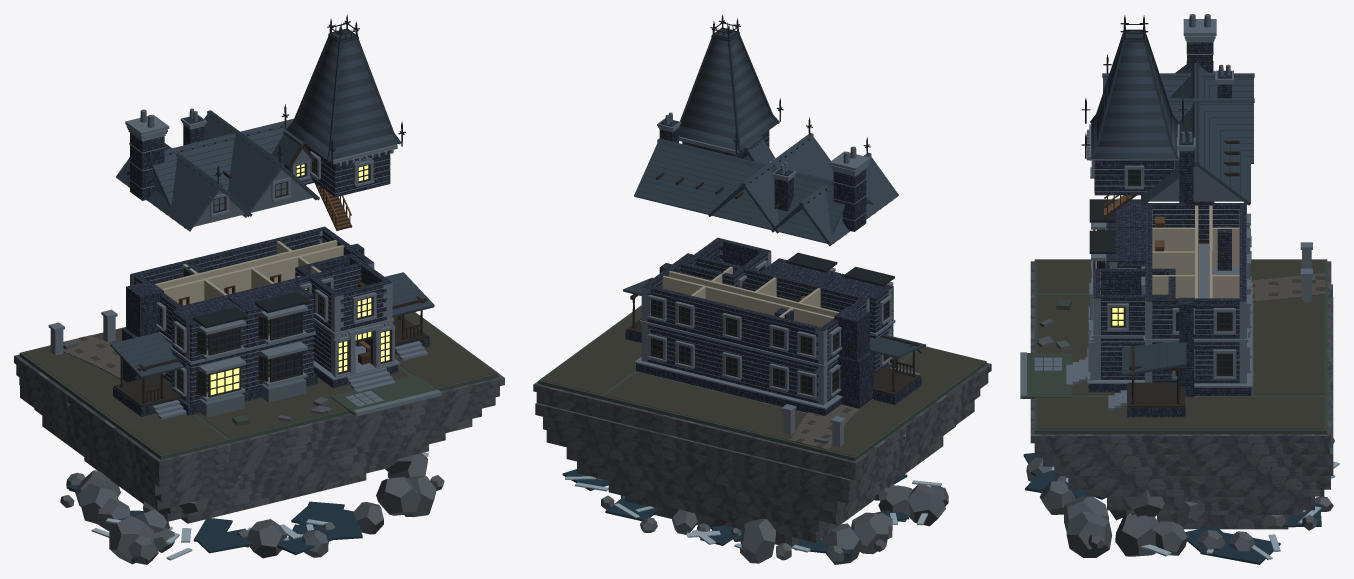
File: casa-da-costa-pisos.glb
3 views of the same model, side by side, from view 1: azimuth 30°, elevation 25°; view 2: azimuth 150°, elevation 25°; view 3: azimuth 270°, elevation 25° (orthographic). The views are drawn at different scales.
Visible parts, largest first — view 1: terra-batida (×3), rochedo (×8), estrato-1 (×3), borda-rochosa (×3), estrato-3 (×2), fiada-do-corucheu (×6), estrato-5, estrato-2 (×2), parede-superior (×2), estrato-4, parede-fundo, parede-da-torre (×3) (+17 smaller); view 2: terra-batida (×3), fiada-de-telhas (×10), parede-fundo (×2), rochedo (×5), estrato-3 (×3), estrato-5, estrato-2 (×3), estrato-1 (×3), estrato-4, borda-rochosa (×3), estrato-6, fiada-do-corucheu (×5) (+17 smaller); view 3: terra-batida (×4), rochedo (×9), fiada-do-corucheu (×10), parede-da-torre (×3), divisoria-de-quarto (×5), parede-leste (×2), estrato-2, estrato-4, estrato-1, borda-rochosa, estrato-3, estrato-6 (+25 smaller).
Part boxes in pixels (x1=…): terra-batida (×3): x1=23, y1=312, x2=495, y2=454; rochedo (×8): x1=78, y1=476, x2=436, y2=564; estrato-1 (×3): x1=16, y1=365, x2=499, y2=479; borda-rochosa (×3): x1=14, y1=354, x2=504, y2=469; estrato-3 (×2): x1=20, y1=385, x2=421, y2=496; fiada-do-corucheu (×6): x1=288, y1=100, x2=399, y2=160; estrato-5: x1=42, y1=416, x2=445, y2=510; estrato-2 (×2): x1=19, y1=377, x2=427, y2=487; parede-superior (×2): x1=172, y1=281, x2=313, y2=361; estrato-4: x1=34, y1=408, x2=472, y2=502; parede-fundo: x1=136, y1=228, x2=322, y2=283; parede-da-torre (×3): x1=295, y1=266, x2=386, y2=372; terra-batida (×3): x1=542, y1=307, x2=982, y2=456; fiada-de-telhas (×10): x1=634, y1=143, x2=844, y2=242; parede-fundo (×2): x1=647, y1=285, x2=820, y2=403; rochedo (×5): x1=740, y1=484, x2=945, y2=564; estrato-3 (×3): x1=543, y1=400, x2=974, y2=503; estrato-5: x1=566, y1=436, x2=943, y2=524; estrato-2 (×3): x1=535, y1=389, x2=980, y2=491; estrato-1 (×3): x1=536, y1=373, x2=988, y2=480; estrato-4: x1=546, y1=425, x2=955, y2=513; borda-rochosa (×3): x1=533, y1=363, x2=991, y2=469; estrato-6: x1=577, y1=461, x2=829, y2=531; fiada-do-corucheu (×5): x1=679, y1=100, x2=777, y2=150; terra-batida (×4): x1=1037, y1=260, x2=1324, y2=429; rochedo (×9): x1=1039, y1=481, x2=1254, y2=557; fiada-do-corucheu (×10): x1=1091, y1=72, x2=1177, y2=158; parede-da-torre (×3): x1=1093, y1=268, x2=1175, y2=379; divisoria-de-quarto (×5): x1=1152, y1=227, x2=1239, y2=298; parede-leste (×2): x1=1145, y1=298, x2=1246, y2=383; estrato-2: x1=1043, y1=419, x2=1332, y2=466; estrato-4: x1=1068, y1=476, x2=1330, y2=489; estrato-1: x1=1034, y1=443, x2=1329, y2=454; borda-rochosa: x1=1030, y1=400, x2=1331, y2=443; estrato-3: x1=1054, y1=432, x2=1333, y2=475; estrato-6: x1=1107, y1=496, x2=1314, y2=510.
Size of the model in its own units: 30.48 by 41.33 by 23.36.
Materials: 33 (6 with a texture image).
